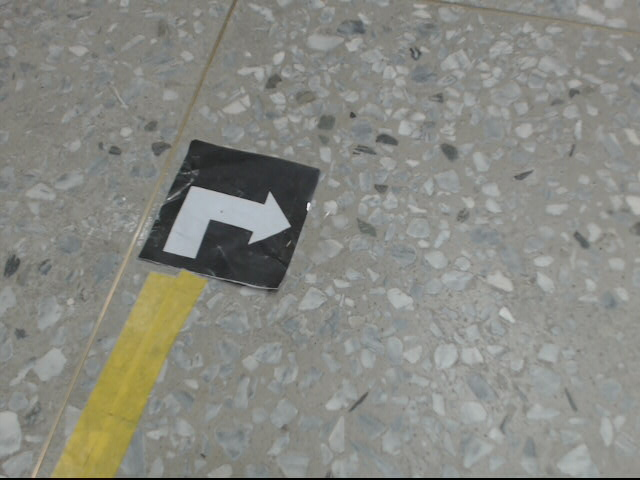right: (138, 139, 320, 294)
